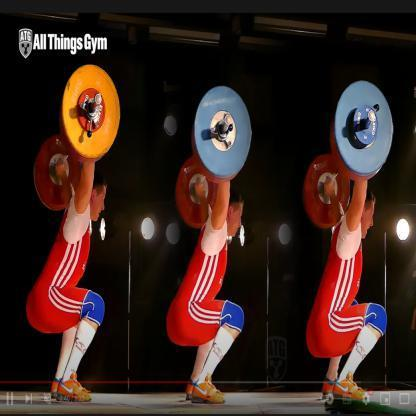barbell: (32, 64, 120, 212), (306, 78, 393, 227), (176, 85, 252, 224)
